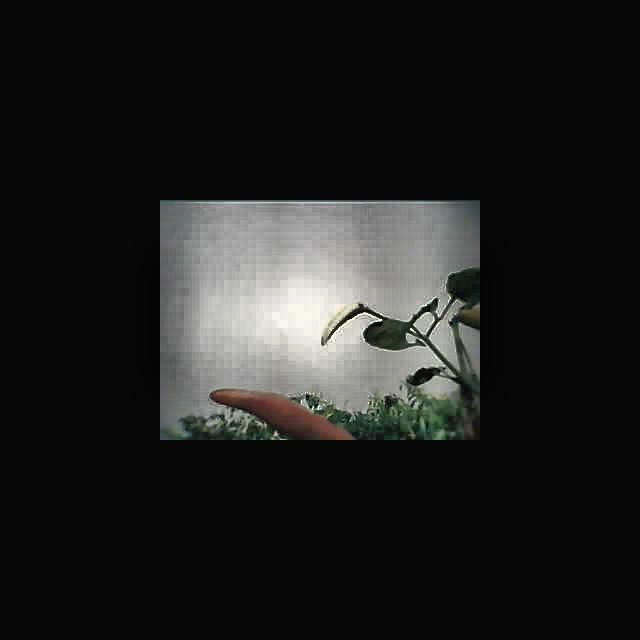Cabai: (209, 388, 361, 440)
